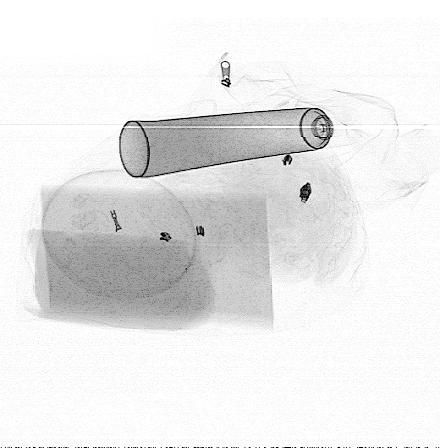Sprayer: (119, 105, 361, 178)
